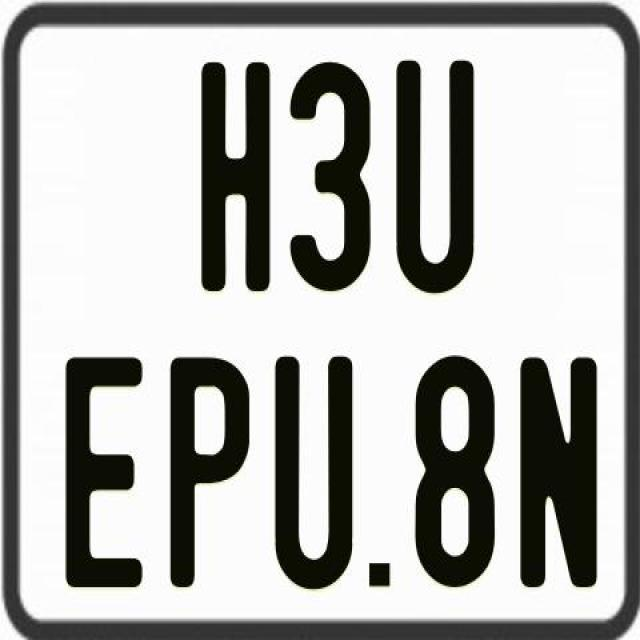3: (286, 59, 371, 294)
8: (410, 355, 498, 592)
E: (65, 356, 151, 594)
H: (200, 61, 274, 293)
N: (520, 356, 602, 588)
P: (169, 353, 255, 588)
U: (273, 355, 359, 587), (393, 58, 472, 292)
